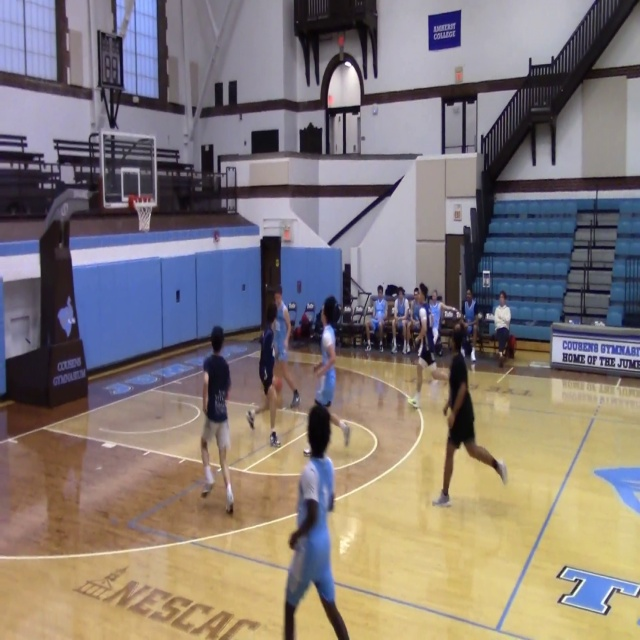Basketball: (442, 308, 460, 328), (431, 367, 450, 380), (272, 376, 282, 392)
